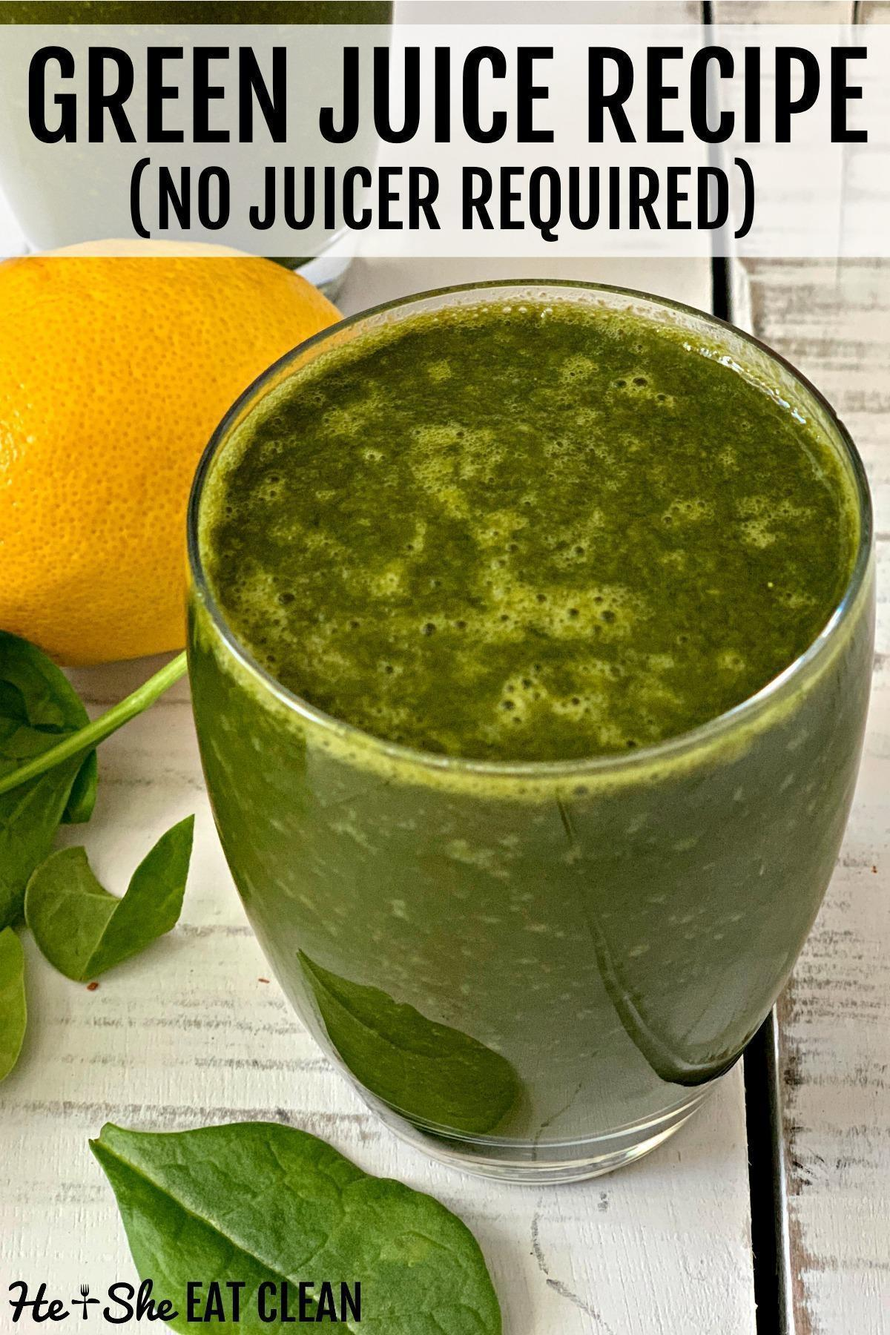glass-normal: (179, 275, 878, 1186)
